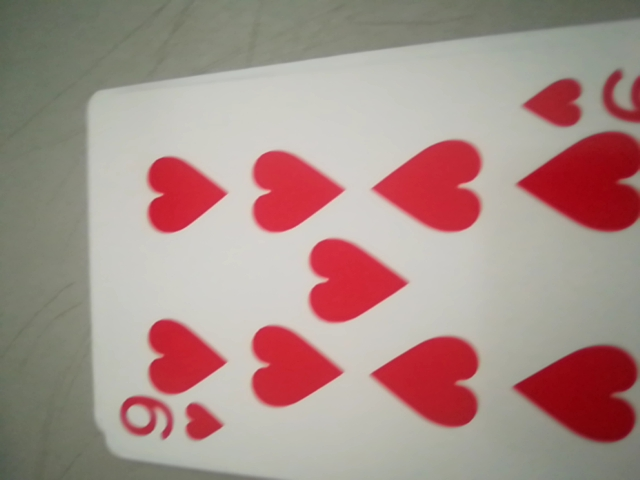hx 9: (112, 391, 232, 456)
